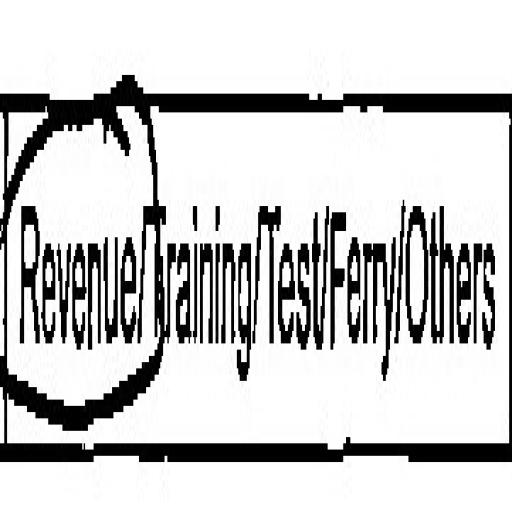check: (0, 16, 149, 490)
